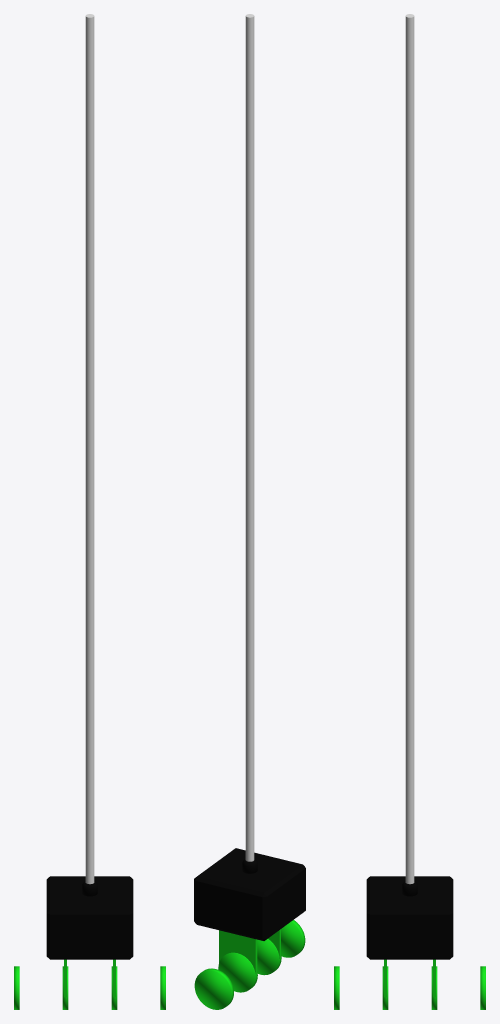
Rendered from claw-rope.glb.
The picture shows the model from 3 angles, left to right: view 1: azimuth 90°, elevation 25°; view 2: azimuth 150°, elevation 25°; view 3: azimuth 270°, elevation 25°; orthographic projection. The views are drawn at different scales.
Parts seen in each view (by area): view 1: SM_Hand_Holder; view 2: SM_Hand_Holder; view 3: SM_Hand_Holder.
Part boxes in pixels (<box>): SM_Hand_Holder: <box>14,14,165,1009</box>; SM_Hand_Holder: <box>194,14,305,1009</box>; SM_Hand_Holder: <box>334,14,485,1009</box>.
Bounding box in the file's own units: 0.7316 × 9.24 × 1.28.
